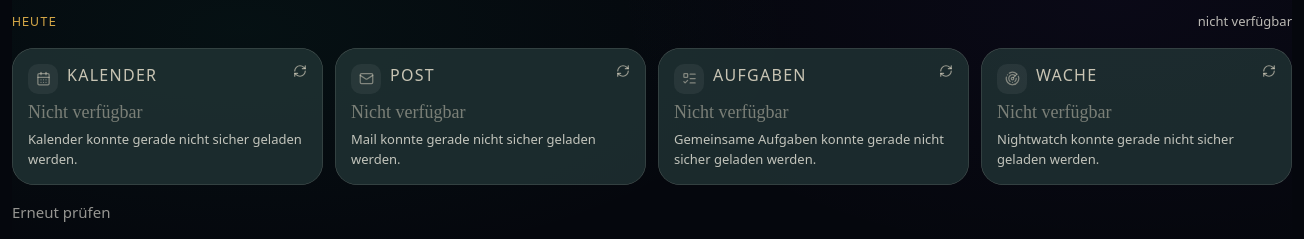
Scenario: TodayOverview Universe V2 source truth › retries a server failure instead of opening account setup
Expected: the text "Nicht verfügbar" is shown 4 times, [28,102,142,122]; [351,102,466,122]; [674,102,788,122]; [997,102,1112,122]
What coordinates should you click on to do the following:
click the button with test id "uv2-today-tasks"
I would click on:
 (760, 74)
Its box is [658,48,969,185].
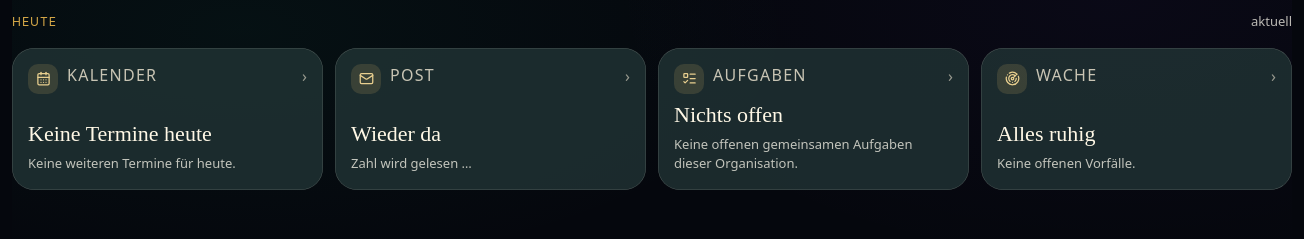
Expected: the text "Wieder da" is shown, [351,121,441,146]
